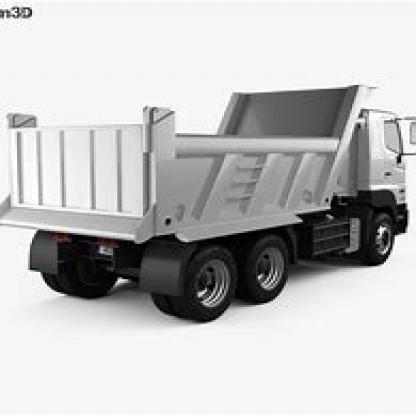dump_truck: (8, 74, 410, 327)
